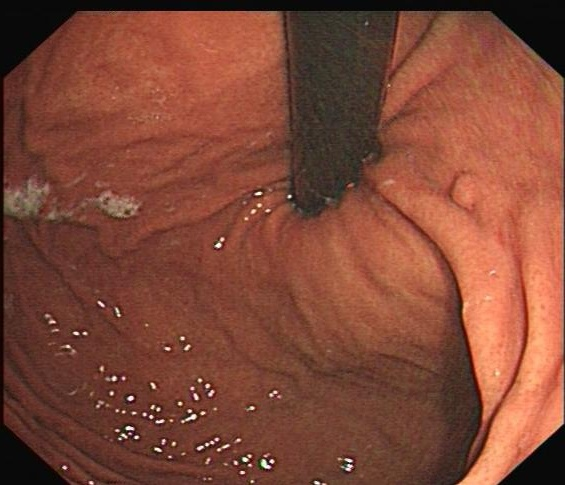Polyp: (422, 153, 493, 230)
